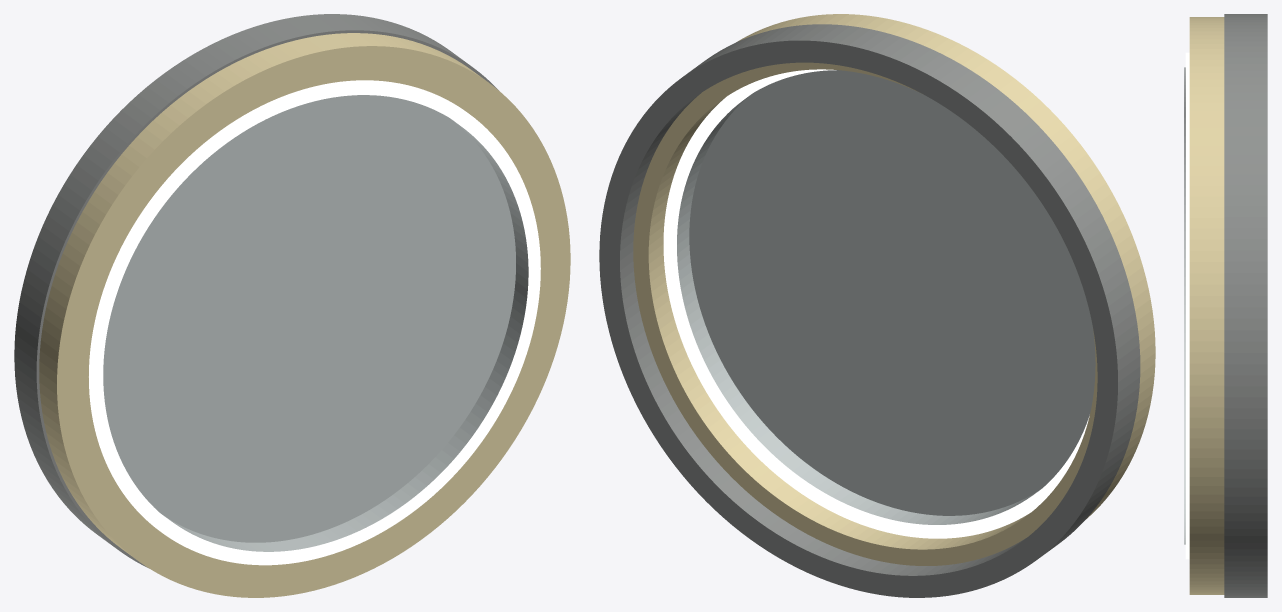
The model's file is allure.glb.
3 renders of one model, left to right at view 1: azimuth 30°, elevation 25°; view 2: azimuth 150°, elevation 25°; view 3: azimuth 270°, elevation 25°, orthographic. The views are drawn at different scales.
Parts seen in each view (by area): view 1: Circular reflective mirror glass, Champagne gold outer frame, Integrated white LED diffuser, Rear circular housing; view 2: Circular reflective mirror glass, Rear circular housing, Champagne gold outer frame, Integrated white LED diffuser; view 3: Rear circular housing, Champagne gold outer frame, Integrated white LED diffuser, Circular reflective mirror glass.
Part boxes in pixels (x1=…): Circular reflective mirror glass: x1=103, y1=95, x2=528, y2=551; Champagne gold outer frame: x1=39, y1=33, x2=570, y2=597; Integrated white LED diffuser: x1=89, y1=80, x2=540, y2=565; Rear circular housing: x1=14, y1=14, x2=498, y2=567; Circular reflective mirror glass: x1=677, y1=70, x2=1095, y2=524; Rear circular housing: x1=599, y1=24, x2=1140, y2=597; Champagne gold outer frame: x1=633, y1=14, x2=1155, y2=565; Integrated white LED diffuser: x1=663, y1=69, x2=1089, y2=538; Rear circular housing: x1=1224, y1=14, x2=1267, y2=597; Champagne gold outer frame: x1=1189, y1=17, x2=1224, y2=594; Integrated white LED diffuser: x1=1185, y1=52, x2=1189, y2=559; Circular reflective mirror glass: x1=1184, y1=67, x2=1185, y2=544.
Bounding box in the file's own units: 1.01 × 1.01 × 0.144.
